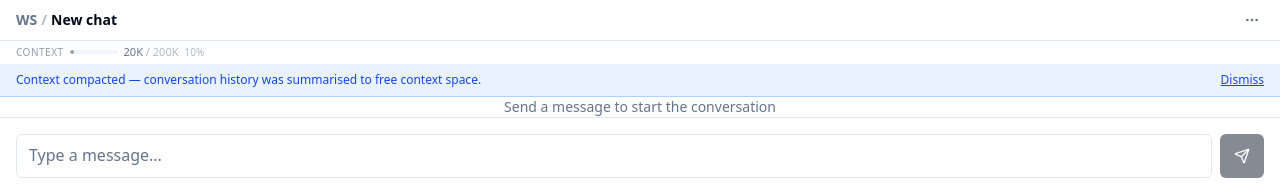
Scenario: S36.4 — compaction indicator › compaction banner can be dismissed
This screenshot has width=1280, height=195.
Expected: the text "Context compacted" is shown, top-left (16, 71), bottom-right (481, 88)
Click the button "Dismiss": click(1242, 80) top-left (1221, 72), bottom-right (1264, 88)
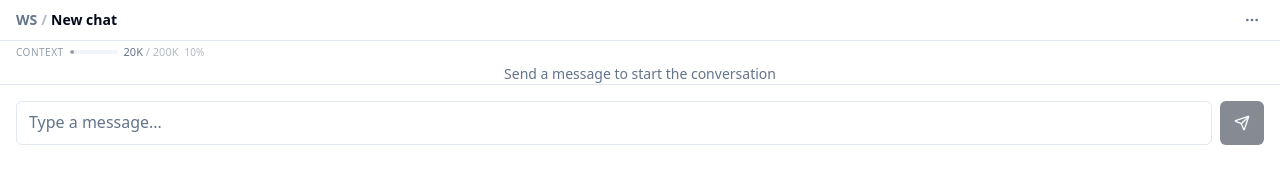
Now the text "Context compacted" is gone
